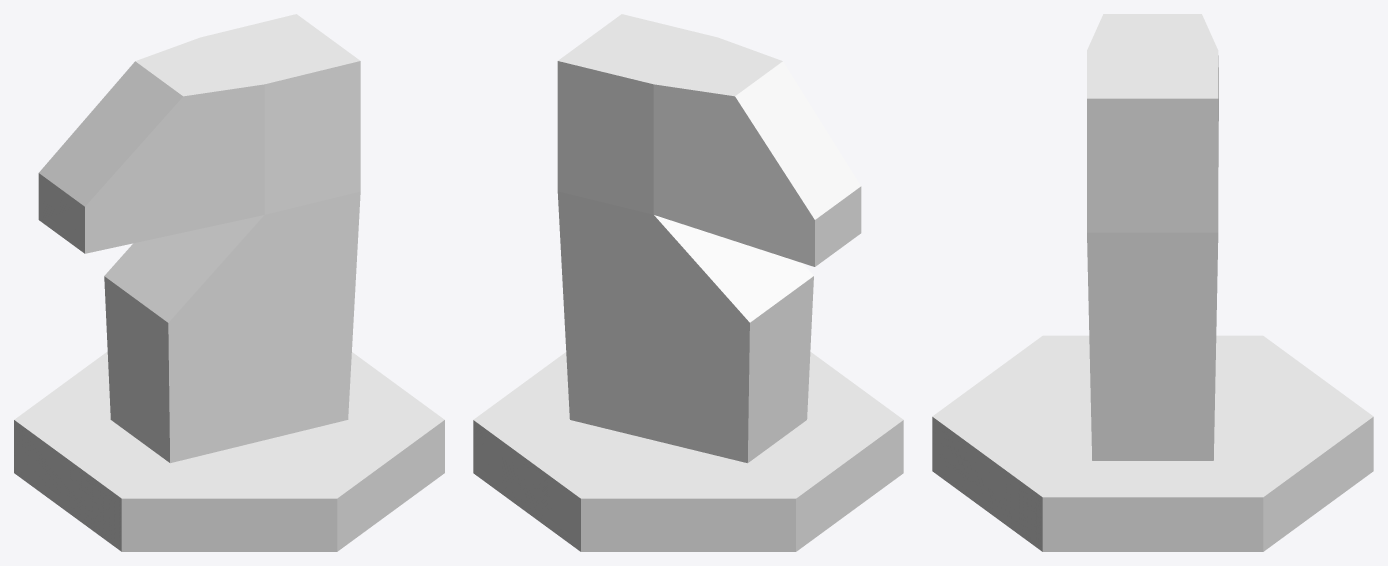
Rendered from chesspieceknight01.obj.
3 views of the same model, side by side, from view 1: azimuth 30°, elevation 25°; view 2: azimuth 150°, elevation 25°; view 3: azimuth 270°, elevation 25° (orthographic). The views are drawn at different scales.
Parts seen in each view (by area): view 1: Cylinder.002_Cylinder.006; view 2: Cylinder.002_Cylinder.006; view 3: Cylinder.002_Cylinder.006.
Boxes of the visible parts, <box> form: Cylinder.002_Cylinder.006: <box>14,14,444,551</box>; Cylinder.002_Cylinder.006: <box>473,14,903,551</box>; Cylinder.002_Cylinder.006: <box>932,14,1373,551</box>.
Size of the model in its own units: 0.0225 by 0.0274 by 0.026.
